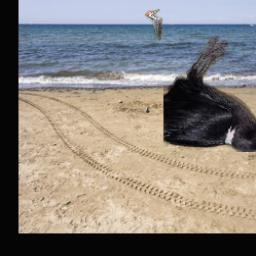Crow: (164, 34, 256, 152)
Woodpecker: (146, 9, 163, 40)
